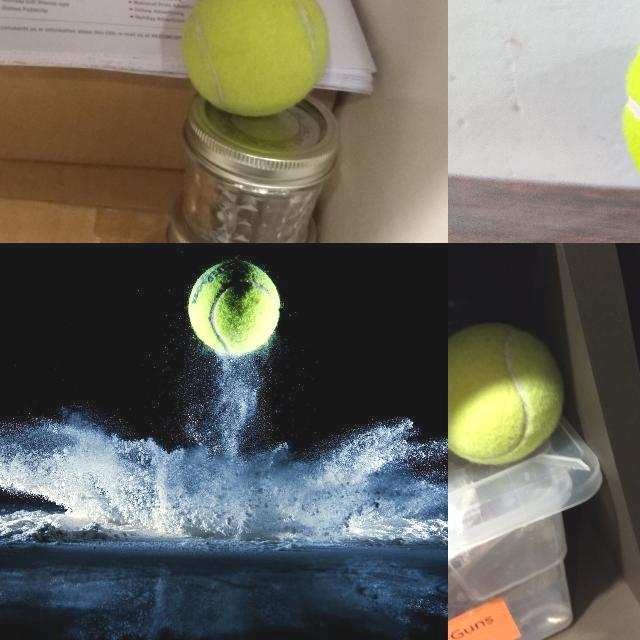Tennis Ball: (181, 0, 330, 117), (448, 320, 564, 465), (187, 258, 281, 356)
